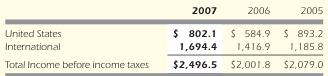table: (4, 4, 322, 69)
table column: (4, 4, 159, 69), (159, 4, 222, 69), (222, 4, 275, 69), (275, 4, 322, 69)
table column header: (4, 4, 322, 21)
table row: (4, 21, 322, 39), (4, 4, 322, 21), (4, 39, 322, 54), (4, 54, 322, 69)
